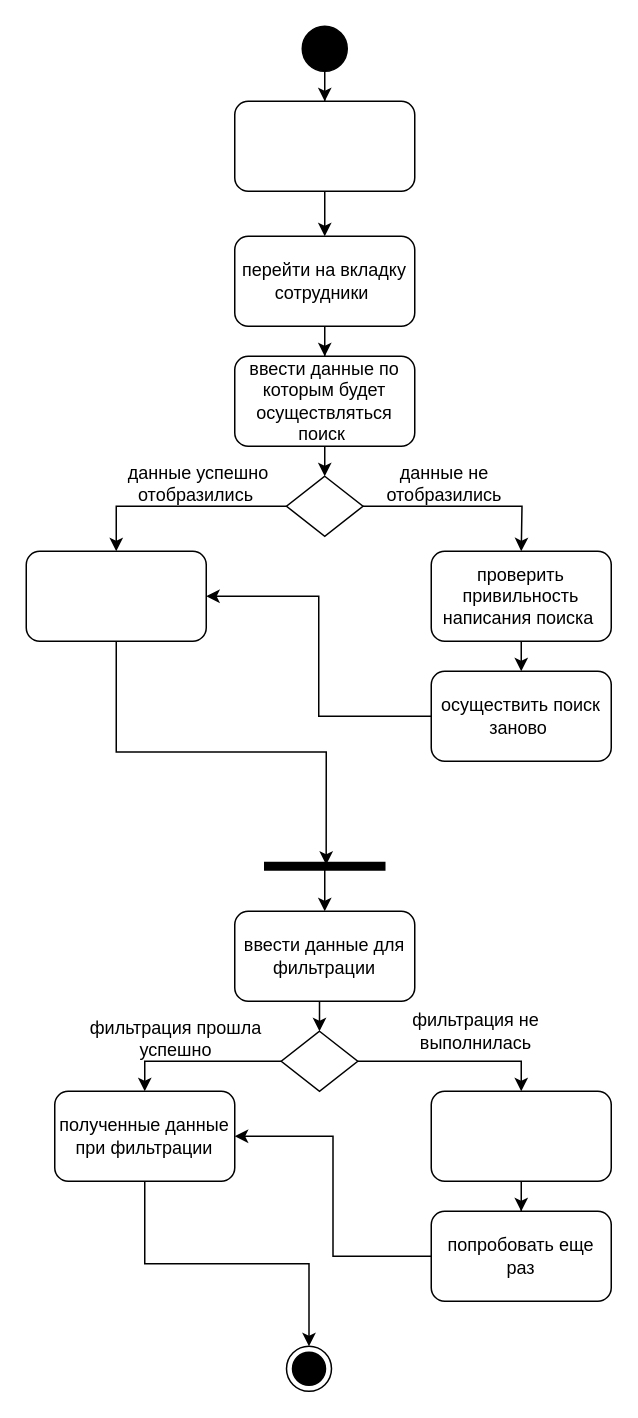
Some shapes in this 638 by 1418 pixel diagram are drawn without their labels. The shapes that lost their labels are listed below. From the top down, each one's centre as x and y in pixels, then its label:
the point at 324,145: войти в систему как администратор или менеджер
the point at 115,595: полученные данные при поиске
the point at 520,1135: проверить данные
